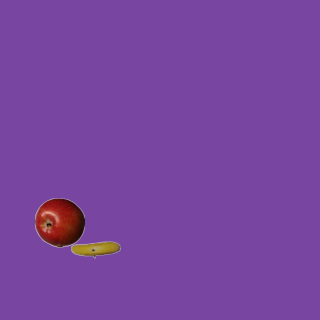Apple Braeburn: (34, 197, 84, 247)
Banana: (70, 224, 120, 274)
